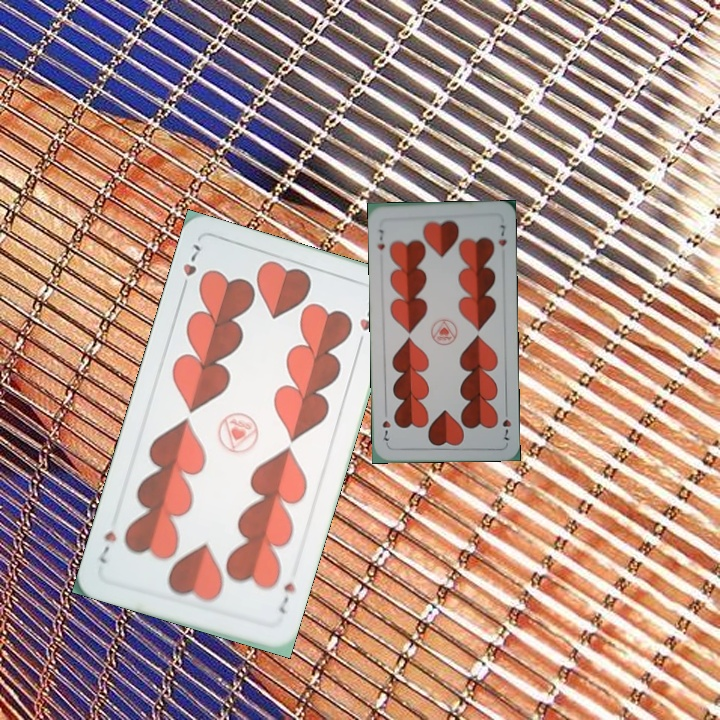H7: (177, 240, 203, 296), (274, 578, 298, 617), (498, 404, 514, 442), (374, 225, 387, 252)
